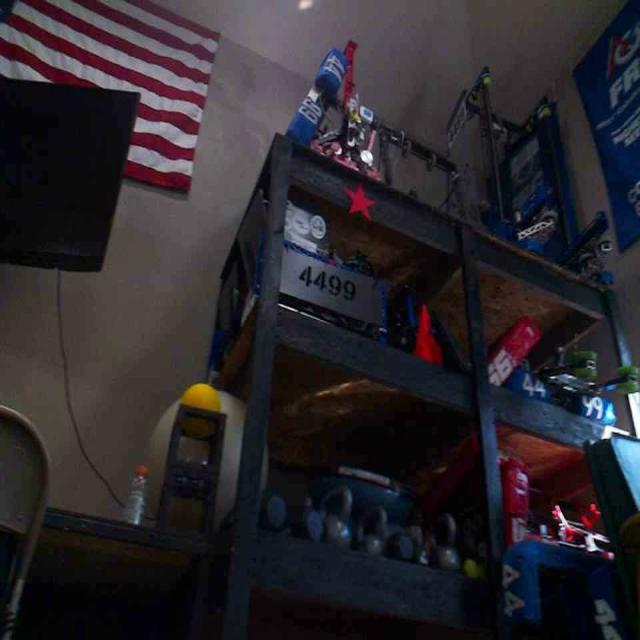star_red: (342, 180, 375, 218)
